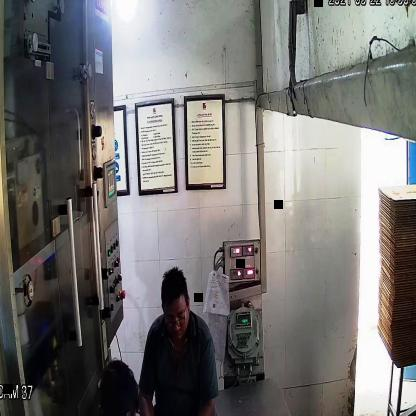goggles: (162, 307, 189, 334)
